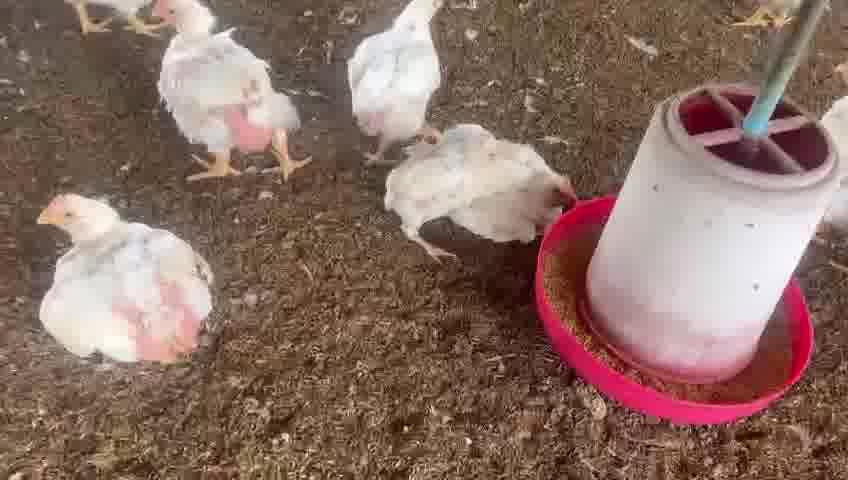AbNormal: (34, 189, 213, 361), (392, 123, 570, 255)
Normal: (149, 3, 310, 179), (349, 0, 446, 161)
